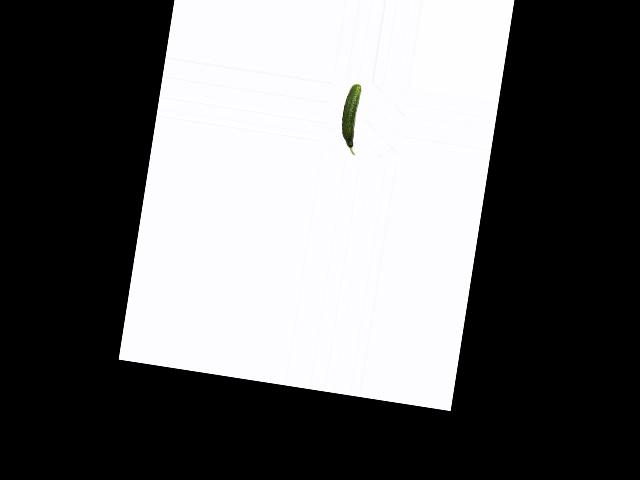cucumber: (337, 83, 365, 155)
